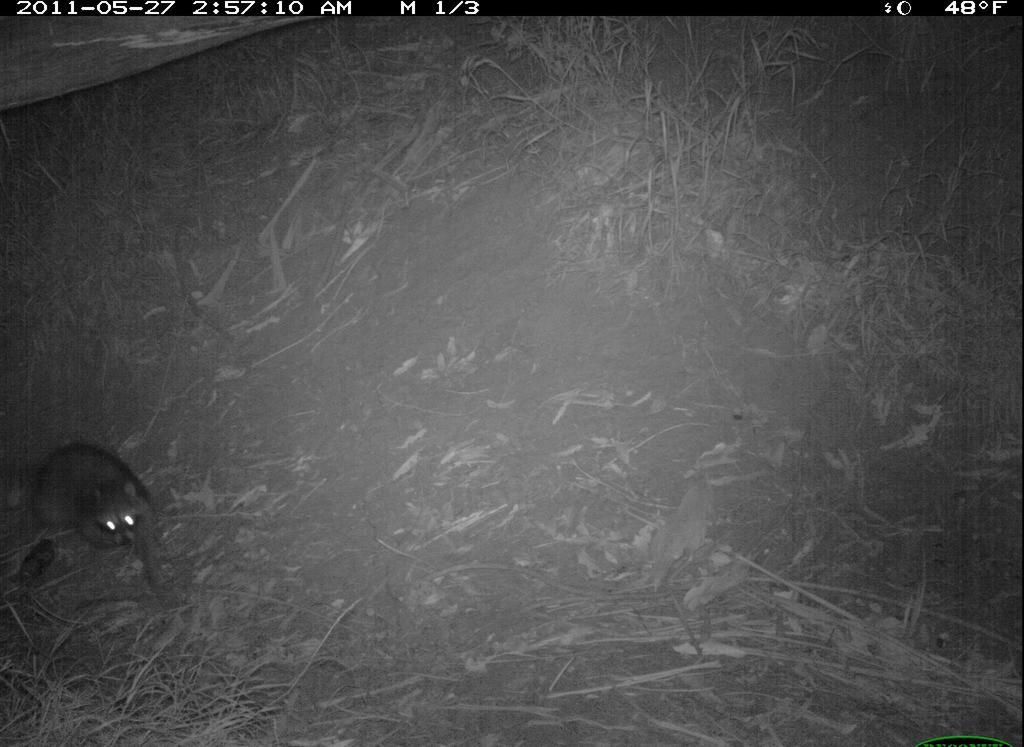raccoon: (11, 431, 185, 614)
